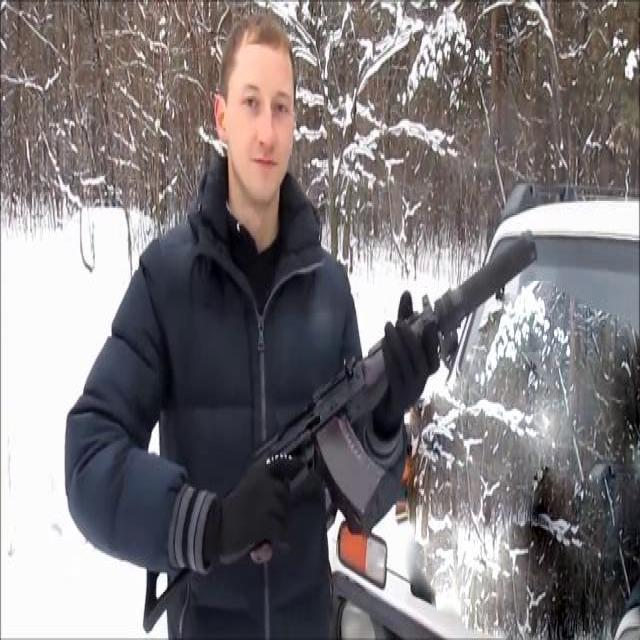pistol: (139, 230, 539, 630)
